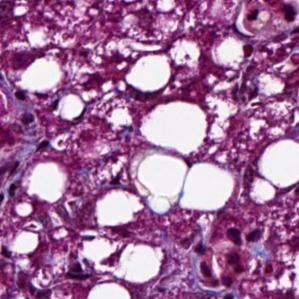inflammation: (189, 227, 269, 290), (237, 0, 299, 40), (6, 88, 62, 125)
